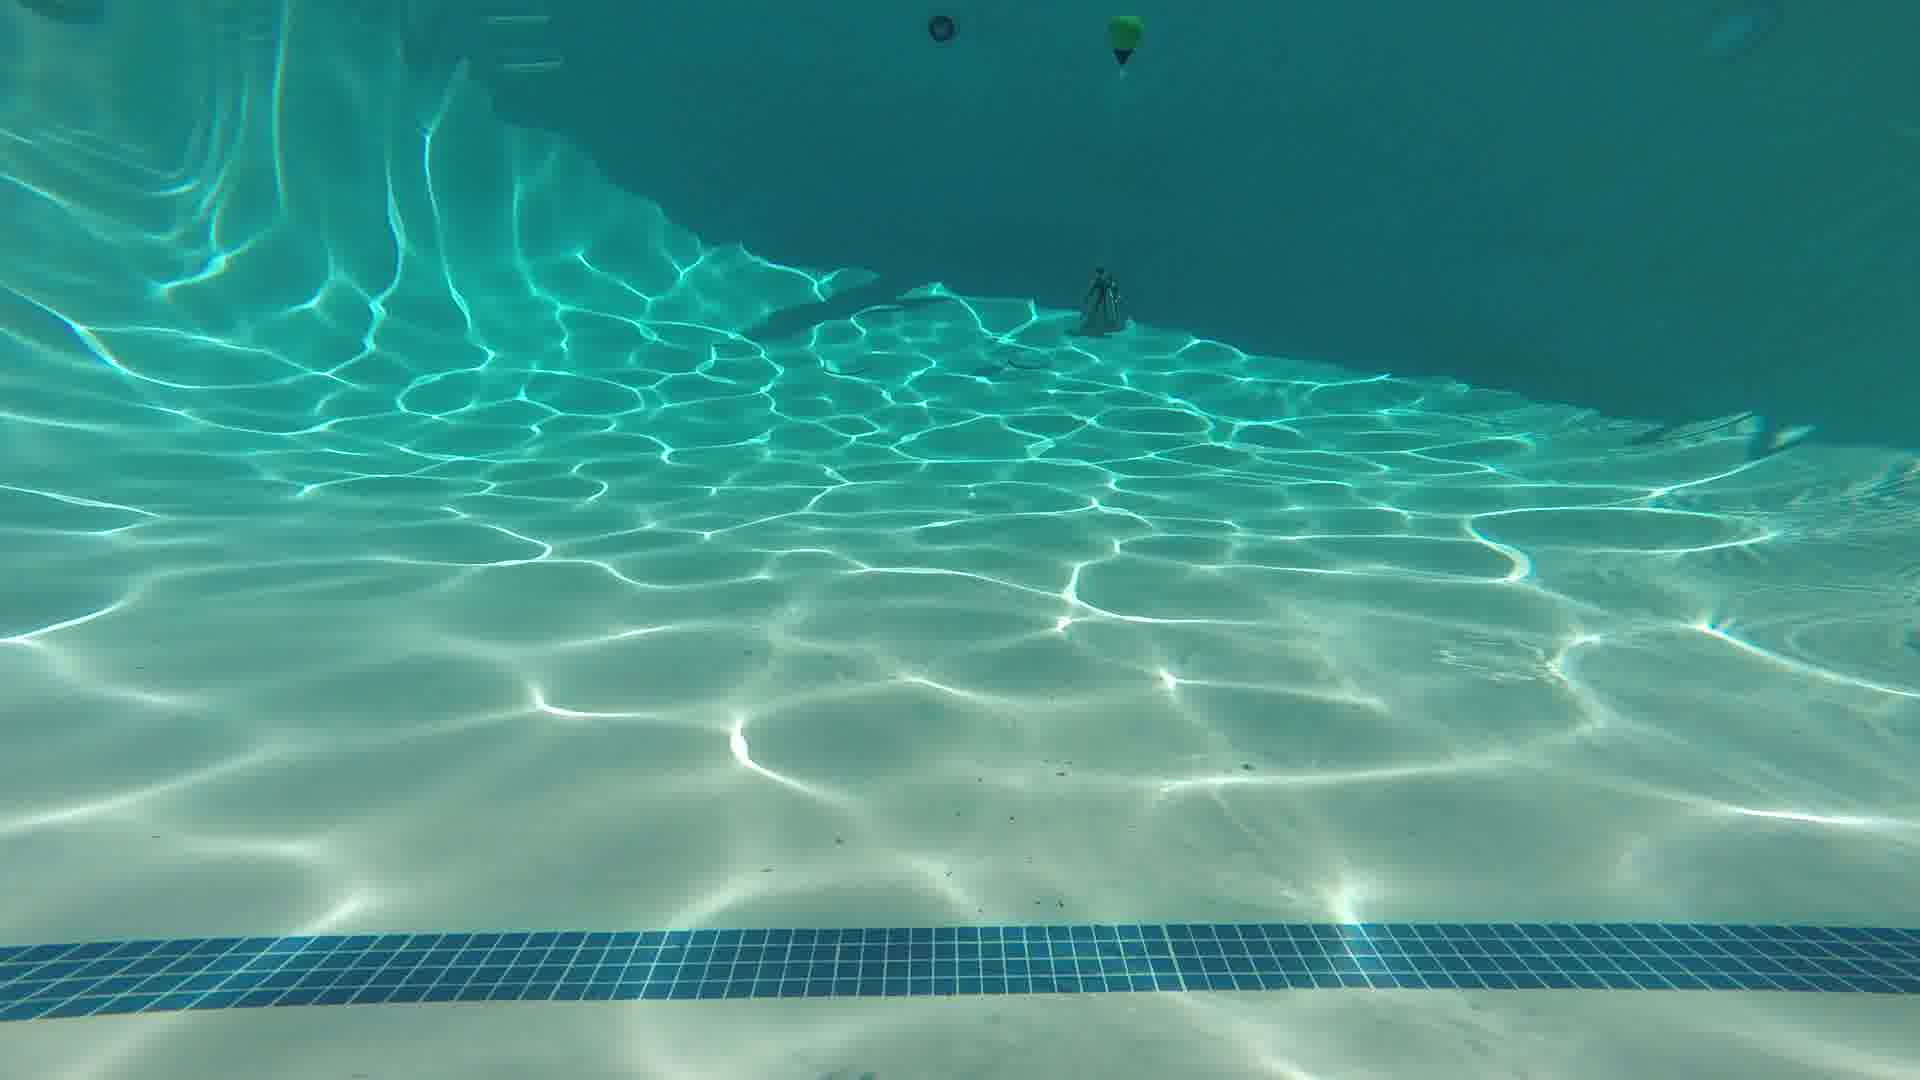yellow buoy: (1102, 7, 1147, 80)
